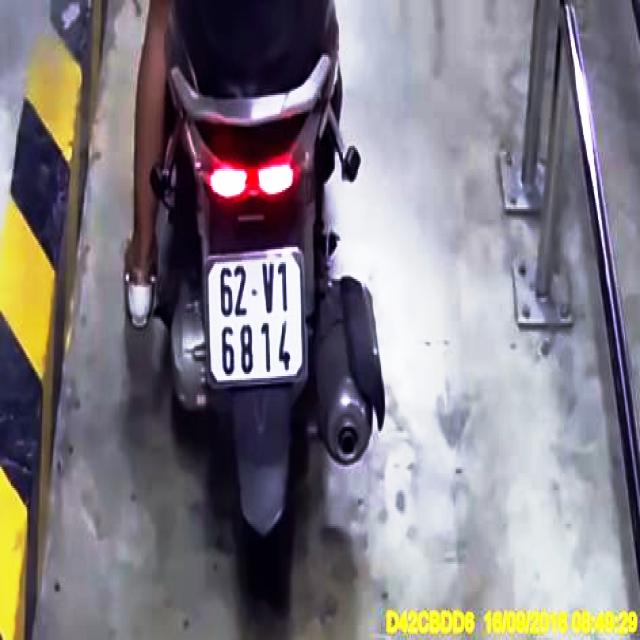license_plate: (208, 252, 306, 382)
